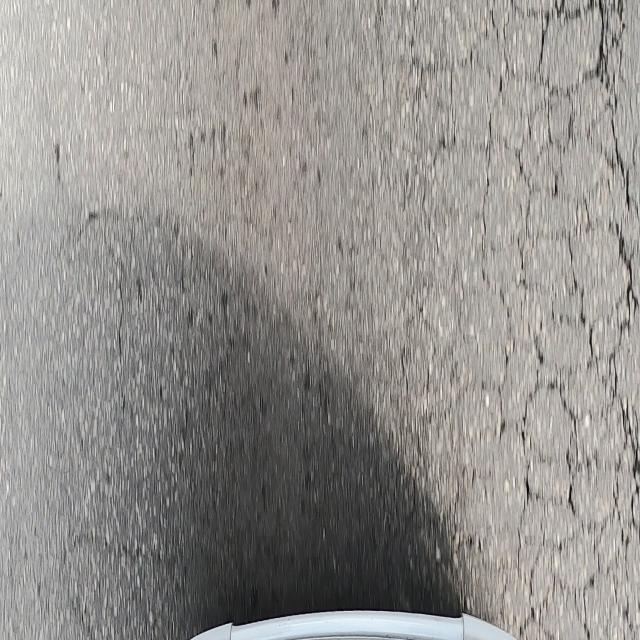Retak-Buaya: (484, 0, 640, 640)
